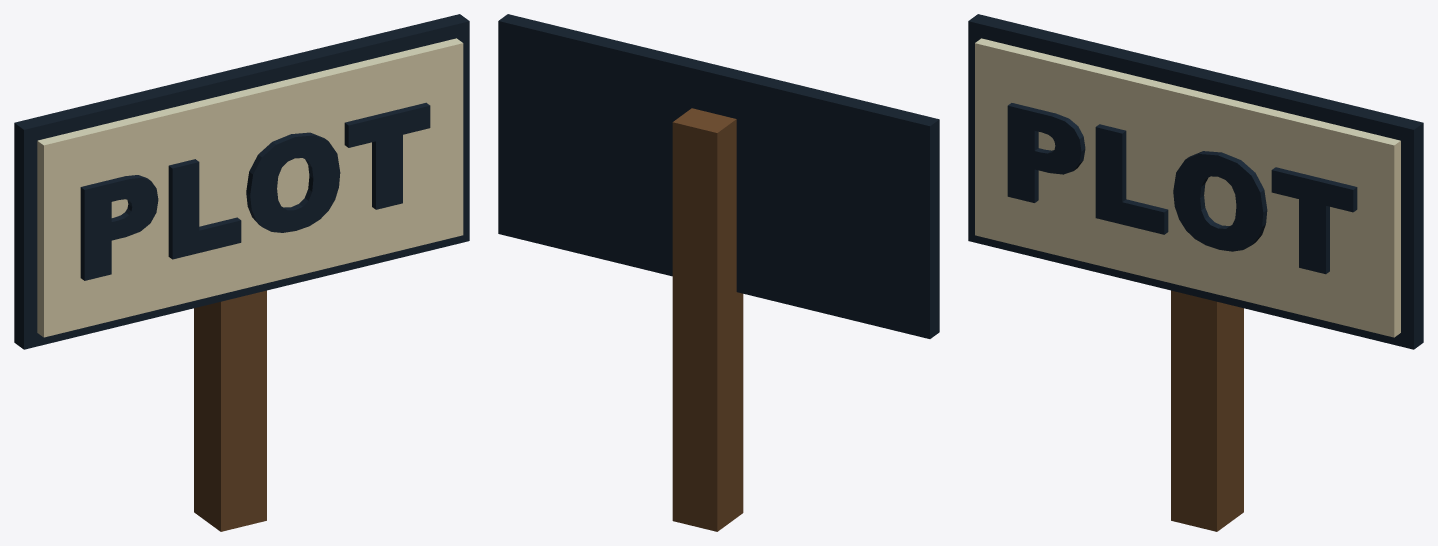
The model's file is PlotSign.glb.
3 views of the same model, side by side, from view 1: azimuth 30°, elevation 25°; view 2: azimuth 150°, elevation 25°; view 3: azimuth 330°, elevation 25° (orthographic). The views are drawn at different scales.
Visible parts, largest first — view 1: PlotSign; view 2: PlotSign; view 3: PlotSign.
Part boxes in pixels (left/top/right/bottom): PlotSign: left=14, top=14, right=469, bottom=531; PlotSign: left=498, top=14, right=939, bottom=531; PlotSign: left=968, top=14, right=1423, bottom=531.
Size of the model in its own units: 6.81 by 6.61 by 1.06.
